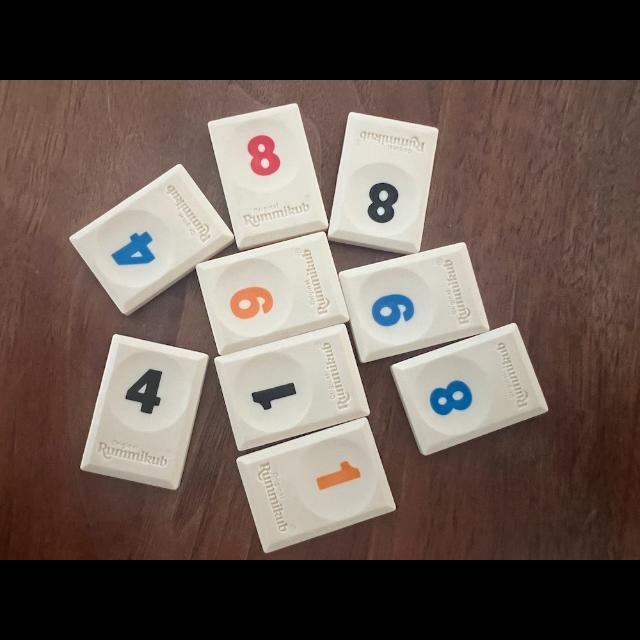black_1: (215, 325, 369, 450)
black_4: (81, 335, 209, 489)
black_8: (328, 112, 438, 254)
blue_4: (70, 164, 234, 315)
blue_8: (391, 324, 548, 455)
blue_9: (339, 242, 489, 362)
orange_1: (236, 419, 395, 552)
orange_9: (196, 232, 349, 355)
red_8: (210, 104, 328, 250)
